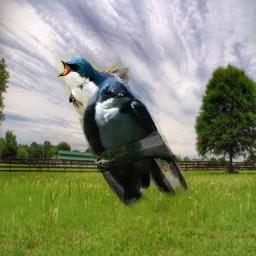Swallow: (79, 77, 193, 213), (55, 54, 130, 125)
